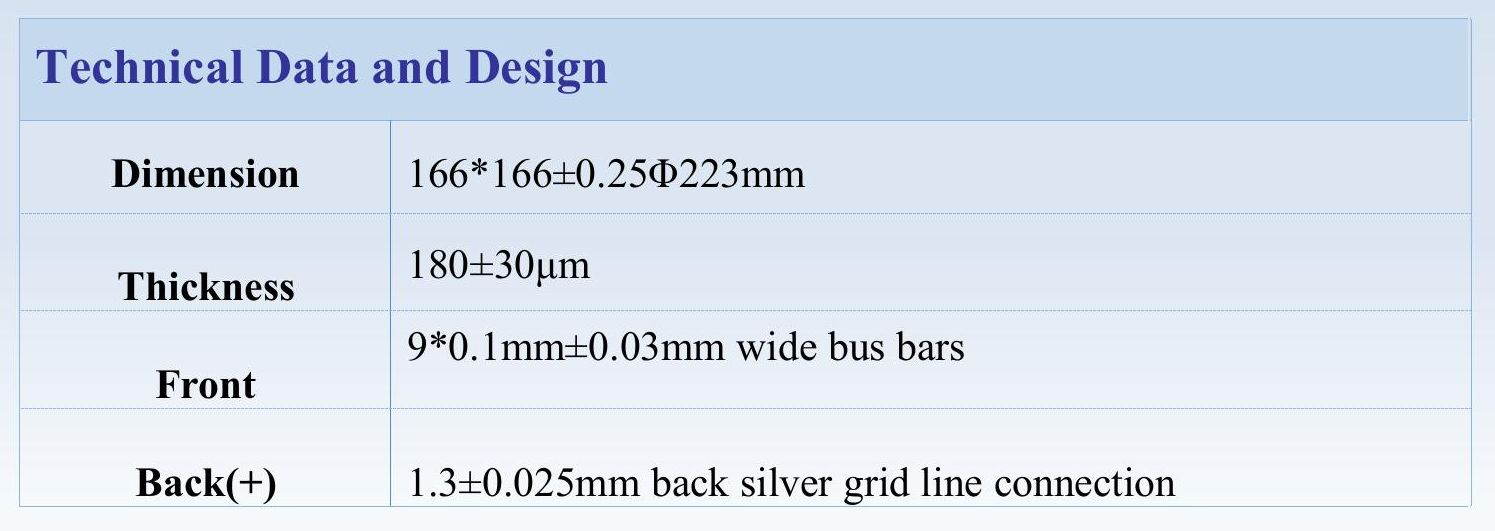table: (12, 12, 1482, 520)
table column: (406, 122, 1456, 513), (44, 119, 381, 511)
table row: (24, 417, 1473, 510), (25, 317, 1471, 403), (27, 125, 1470, 209), (28, 222, 1469, 305)
